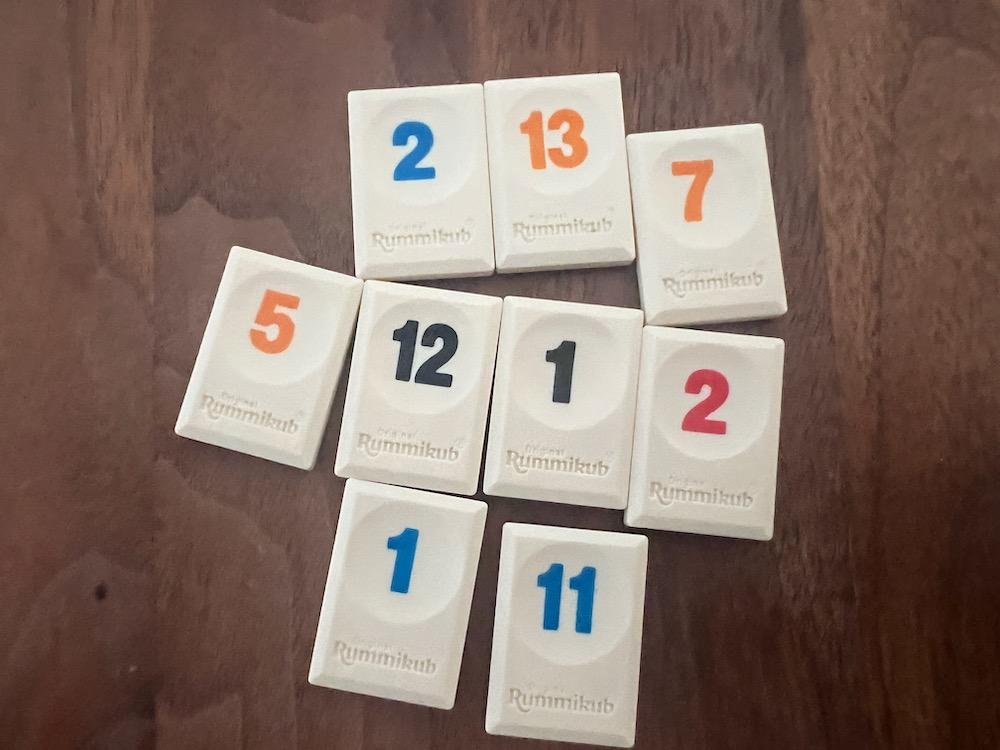black_1: (486, 297, 643, 508)
black_12: (334, 281, 502, 494)
blue_1: (309, 479, 486, 709)
blue_11: (486, 523, 648, 746)
blue_2: (348, 84, 494, 281)
orange_13: (484, 72, 635, 273)
orange_5: (176, 246, 363, 469)
orange_7: (627, 123, 787, 326)
red_2: (625, 326, 783, 539)
